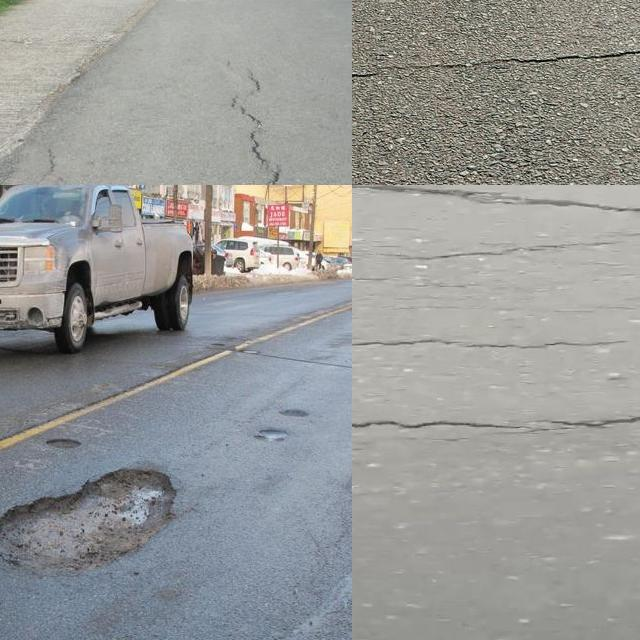Lubang: (0, 465, 175, 583)
Melintang: (352, 28, 640, 96), (352, 400, 640, 447), (352, 185, 640, 231), (352, 327, 623, 359)
Memanjang: (226, 64, 288, 185)
